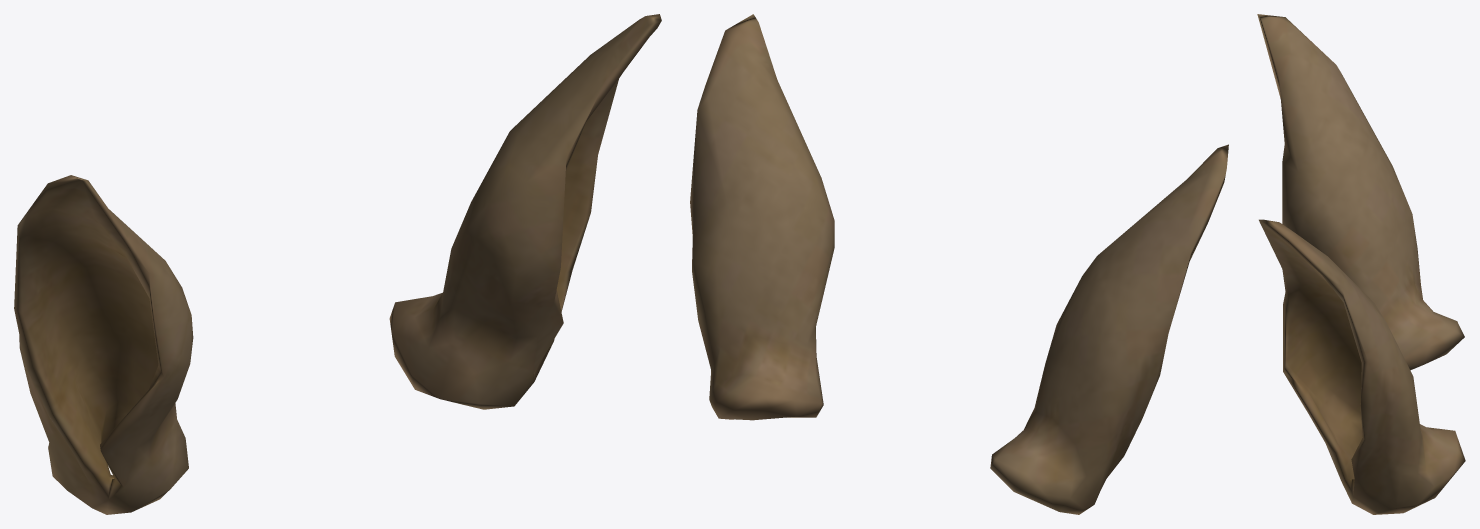
The model's file is Ears.glb.
The picture shows the model from 3 angles, left to right: view 1: azimuth 30°, elevation 25°; view 2: azimuth 150°, elevation 25°; view 3: azimuth 270°, elevation 25°; orthographic projection. The views are drawn at different scales.
Visible parts, largest first — view 1: ears.001; view 2: ears.001; view 3: ears.001.
Boxes of the visible parts, x1,y1,x2,y2 form: ears.001: (14,14,661,514); ears.001: (690,14,1228,514); ears.001: (1257,14,1465,514).
Bounding box in the file's own units: 0.2246 × 0.1504 × 0.0851.
1 material, 1 textured.
